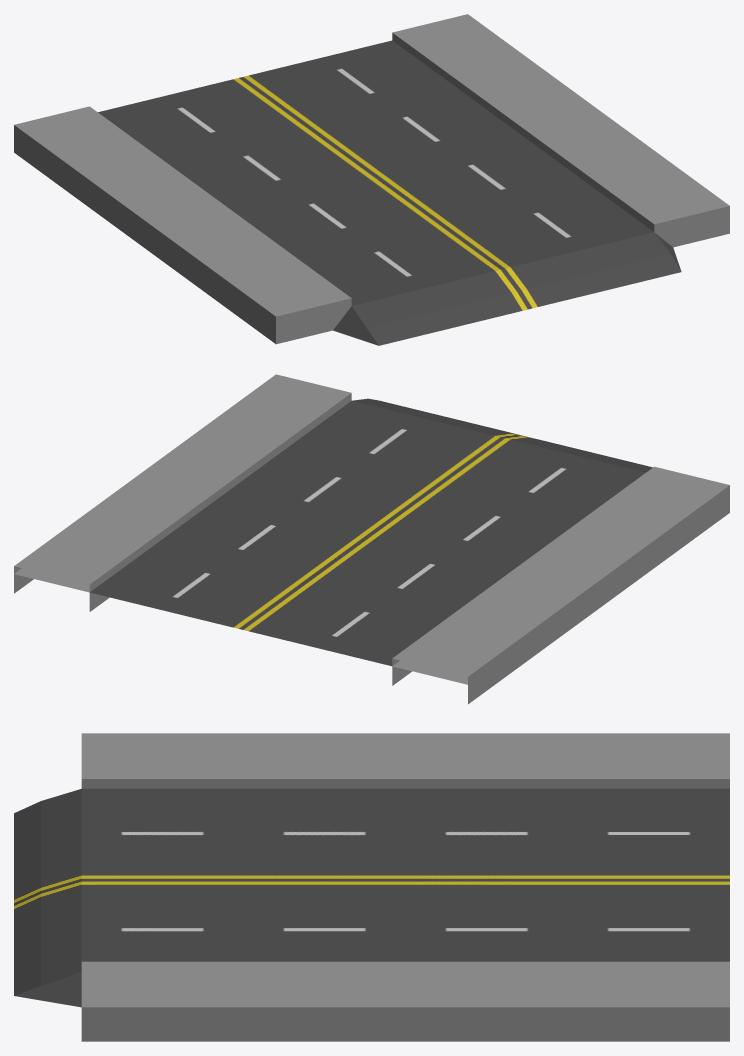
3 renders of one model, top to bottom at view 1: azimuth 30°, elevation 25°; view 2: azimuth 150°, elevation 25°; view 3: azimuth 270°, elevation 25°, orthographic. The views are drawn at different scales.
Parts seen in each view (by area): view 1: Model_0, Skybox; view 2: Model_0, Skybox; view 3: Model_0, Skybox.
Boxes of the visible parts, x1,y1,x2,y2 form: Model_0: (14, 14, 729, 345); Skybox: (107, 41, 681, 345); Model_0: (14, 374, 729, 704); Skybox: (14, 398, 652, 684); Model_0: (14, 733, 729, 1041); Skybox: (14, 788, 725, 995).
Size of what is drawn, in the model's own units: 2400 by 140 by 2650.
